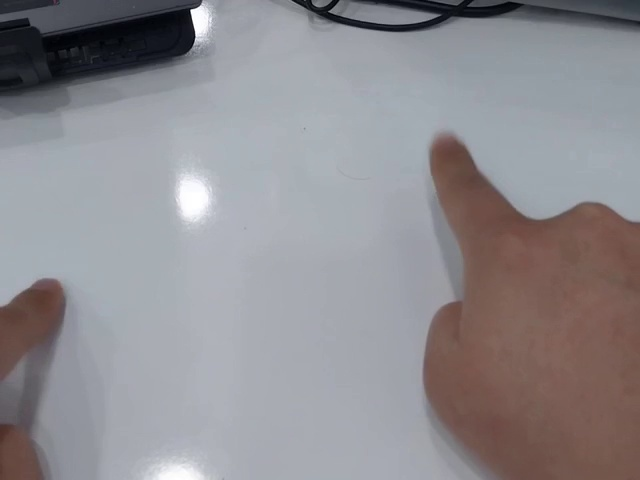fingers: (13, 277, 66, 336), (428, 130, 475, 173)
